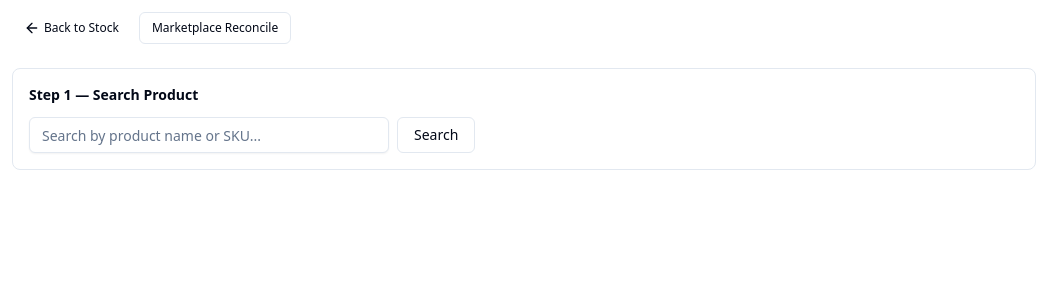
Test case: searching with Enter shows results
Step 1. Type "Shirt" into the field with placeholder "Search by product name or SKU..." → (209, 135), box [29, 117, 389, 153]
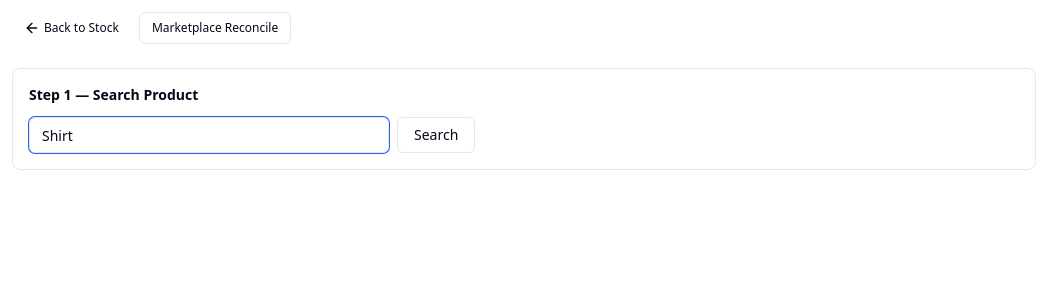
Step 2. Press Enter
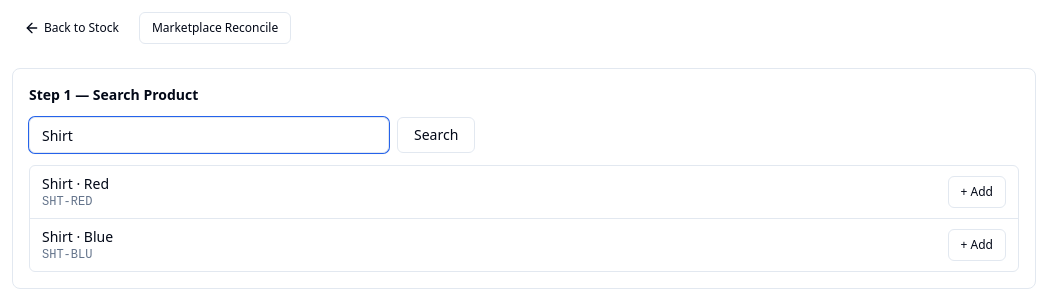
Expected: the text "Shirt · Red" is shown, [42, 174, 109, 194]
Expected: the text "Shirt · Blue" is shown, [42, 227, 113, 247]
